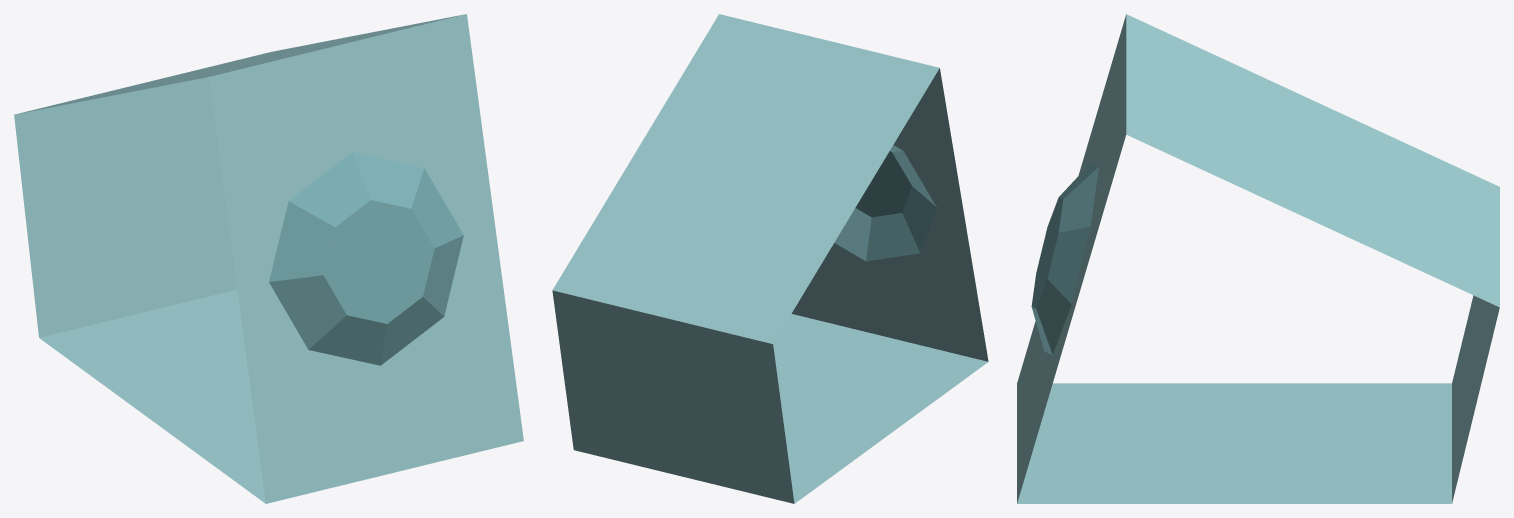
Rendered from Itr_Obj_Speaker2_Middle_06.FBX.
3 views of the same model, side by side, from view 1: azimuth 30°, elevation 25°; view 2: azimuth 150°, elevation 25°; view 3: azimuth 270°, elevation 25° (orthographic). The views are drawn at different scales.
Visible parts, largest first — view 1: Itr_Obj_Speaker2_Middle_06; view 2: Itr_Obj_Speaker2_Middle_06; view 3: Itr_Obj_Speaker2_Middle_06.
Part boxes in pixels (x1,y1,x2,y2): Itr_Obj_Speaker2_Middle_06: (14,14,523,503); Itr_Obj_Speaker2_Middle_06: (552,14,988,503); Itr_Obj_Speaker2_Middle_06: (1017,14,1499,503).
Size of the model in its own units: 6.69 by 9.54 by 11.31.
